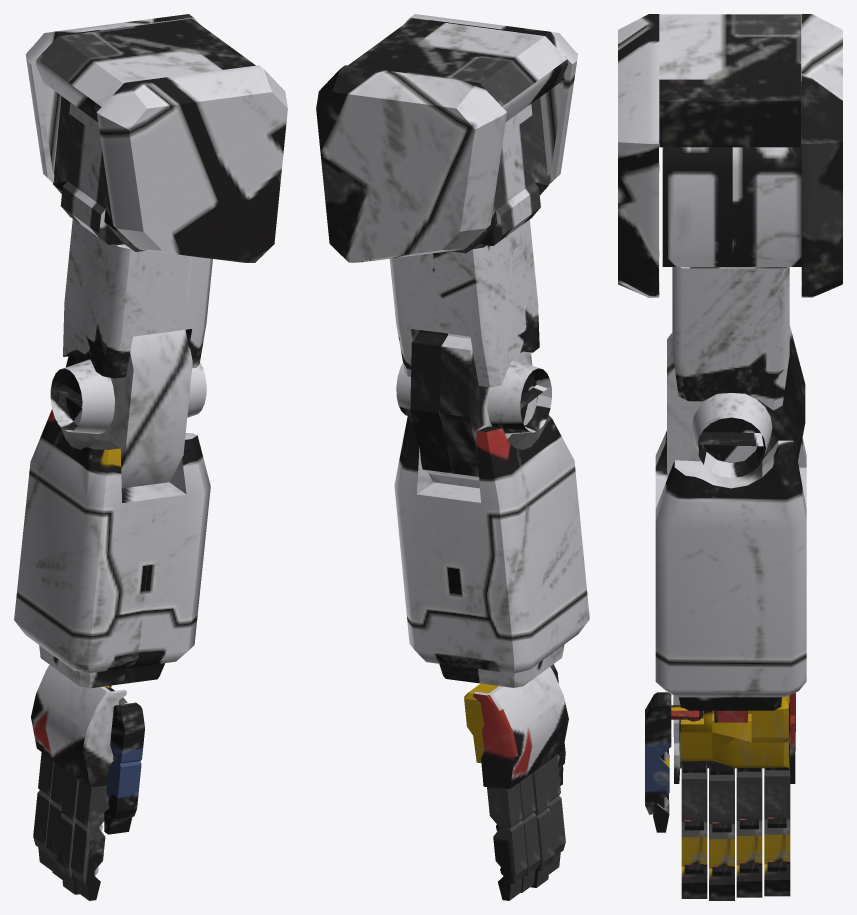
The model's file is arm1.obj.
The picture shows the model from 3 angles, left to right: view 1: azimuth 30°, elevation 25°; view 2: azimuth 150°, elevation 25°; view 3: azimuth 270°, elevation 25°; orthographic projection. The views are drawn at different scales.
Visible parts, largest first — view 1: Gundam1:polySurface666; view 2: Gundam1:polySurface666; view 3: Gundam1:polySurface666.
Part boxes in pixels (x1,y1,x2,y2): Gundam1:polySurface666: (14, 14, 287, 900); Gundam1:polySurface666: (316, 14, 589, 900); Gundam1:polySurface666: (618, 14, 842, 900).
Size of the model in its own units: 3.15 by 12.02 by 2.73.
1 material, 1 textured.
